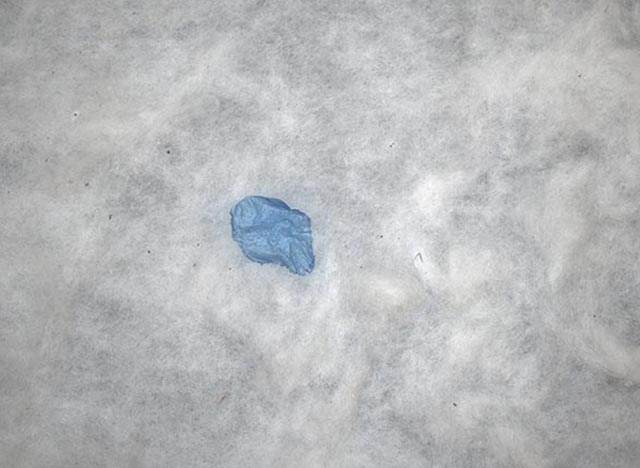plastic film: (229, 194, 315, 275)
